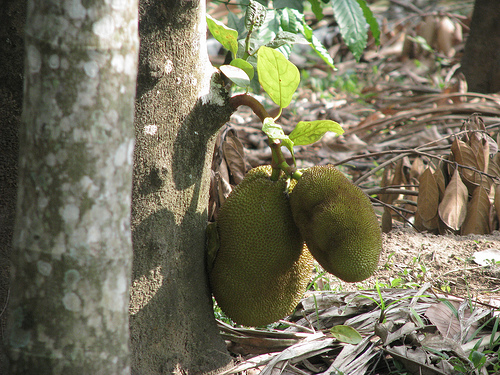jackfruit: (206, 151, 312, 329), (289, 164, 382, 284)
